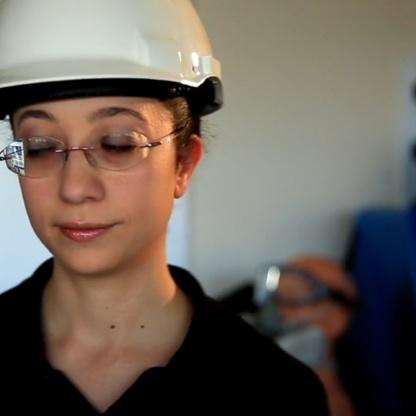helmet: (0, 0, 219, 340)
